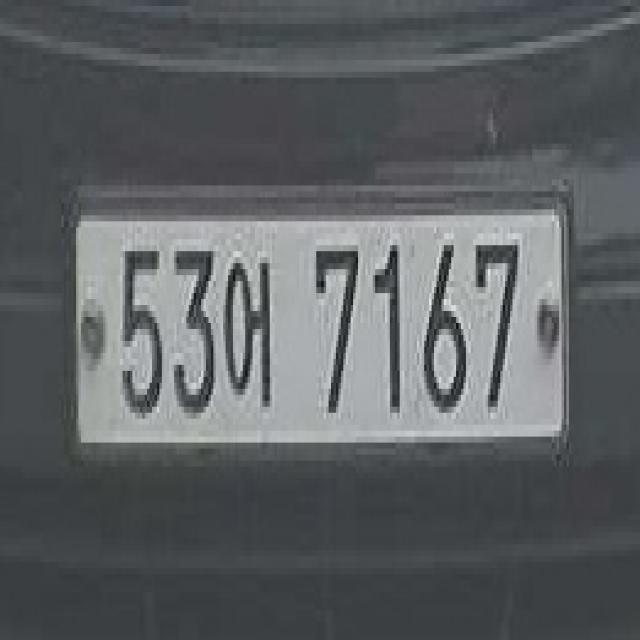1: (368, 227, 417, 437)
3: (169, 233, 221, 425)
5: (118, 233, 166, 449)
6: (419, 221, 474, 413)
7: (304, 221, 365, 425), (471, 209, 527, 431)
eo: (223, 239, 289, 443)
license_plate: (64, 186, 578, 484)
